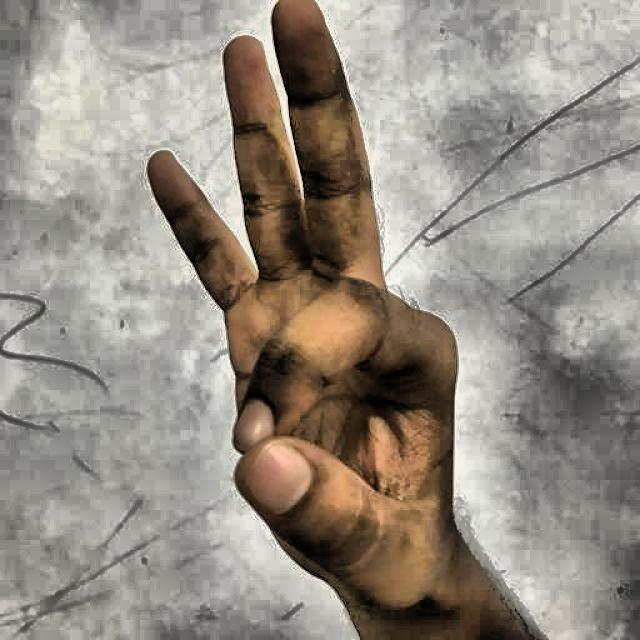Ca: (106, 0, 554, 637)
